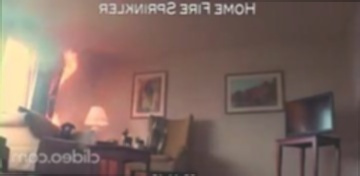fire: (43, 40, 86, 93)
